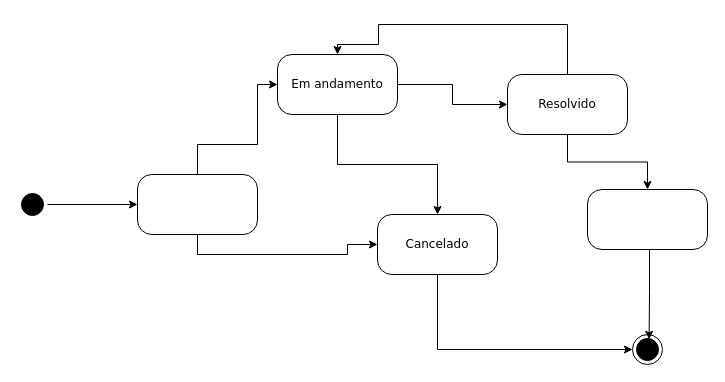
Some shapes in this 725 by 382 pixel diagram are drawn without their labels. Here are the shapes that lost their labels. From the top down, the box of each, then its label:
(136, 174, 258, 234): Aberto
(586, 188, 708, 250): Fechado
